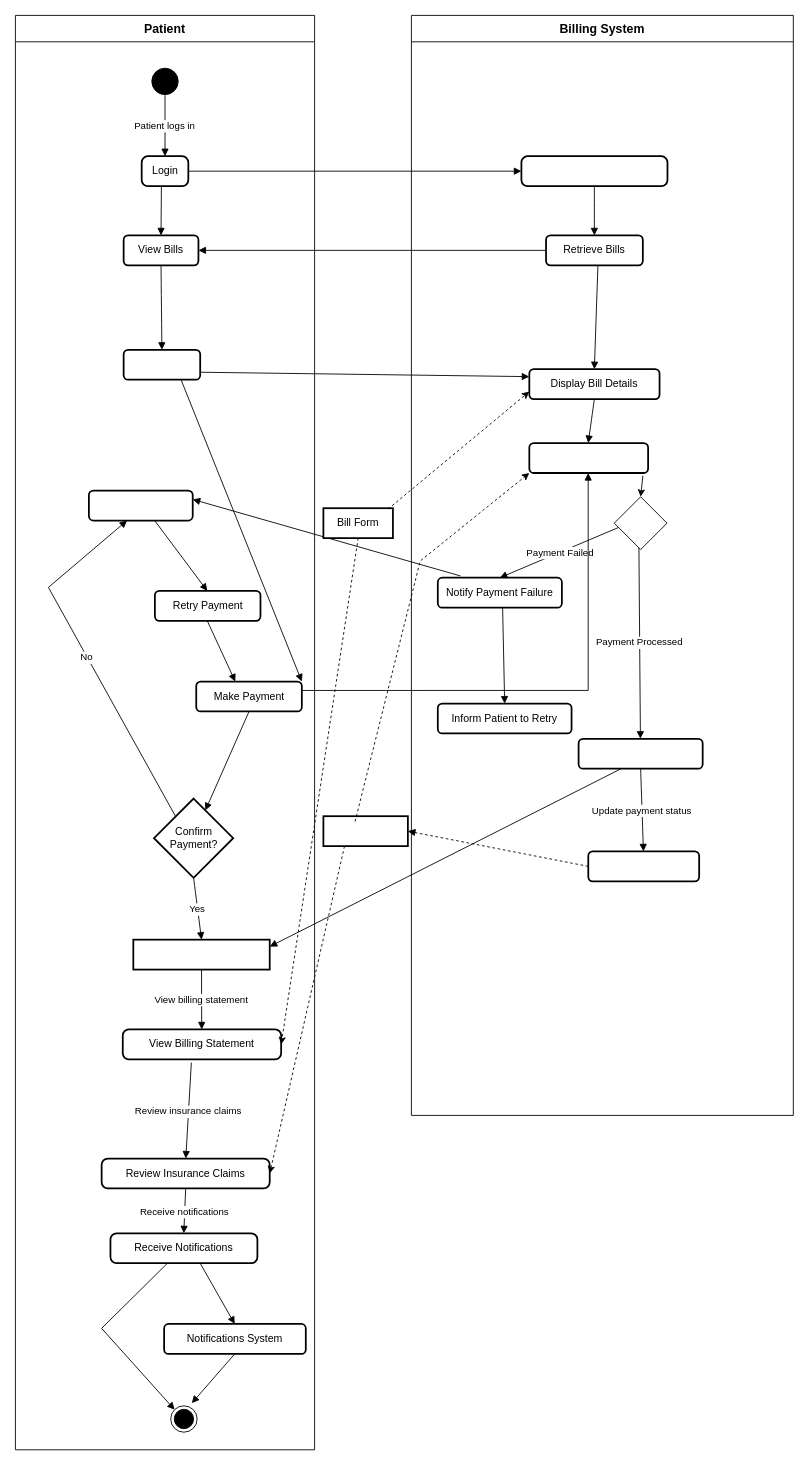
The diagram is 809 pixels wide and 1465 high, and some of its shapes have lost their labels. The centre of each missing label's shape, as x and y in pixels:
"Authenticate Patient" goes at (594,171).
"Generate Receipt" goes at (640,753).
"Payment Error" goes at (140,505).
"Payment Form" goes at (365,831).
"Payment Status" goes at (643,866).
"Payment Successful" goes at (201,954).
"Process Payment" goes at (588,457).
"Select Bill" goes at (161,364).
